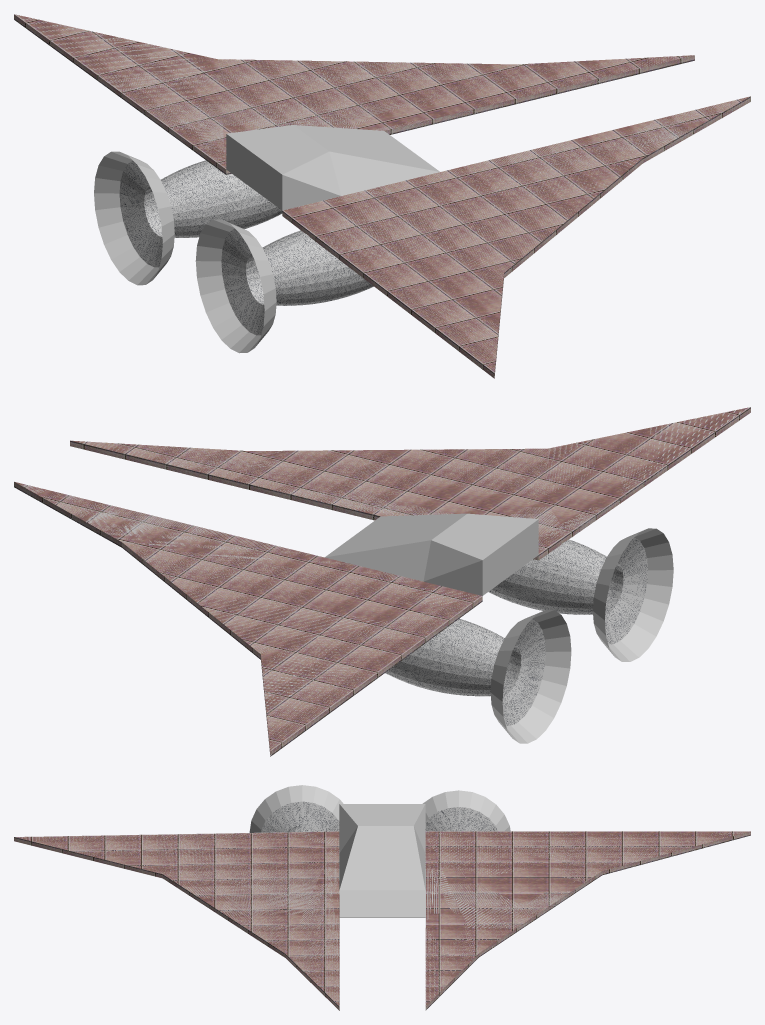
3 views of the same model, one above another, from view 1: azimuth 30°, elevation 25°; view 2: azimuth 150°, elevation 25°; view 3: azimuth 270°, elevation 25° (orthographic). The views are drawn at different scales.
Visible parts, largest first — view 1: mesh6.001_mesh6-geometry, mesh6.002_mesh6-geometry, mesh7.002_mesh7-geometry, mesh7.001_mesh7-geometry, mesh1.001_mesh1-geometry; view 2: mesh6.002_mesh6-geometry, mesh6.001_mesh6-geometry, mesh7.002_mesh7-geometry, mesh7.001_mesh7-geometry, mesh1.001_mesh1-geometry; view 3: mesh6.002_mesh6-geometry, mesh6.001_mesh6-geometry, mesh1.001_mesh1-geometry, mesh7.001_mesh7-geometry, mesh7.002_mesh7-geometry.
Part boxes in pixels (box(x1,y1,x2,y2)): mesh6.001_mesh6-geometry: box(282, 96, 750, 378); mesh6.002_mesh6-geometry: box(14, 14, 694, 174); mesh7.002_mesh7-geometry: box(94, 151, 282, 285); mesh7.001_mesh7-geometry: box(195, 219, 373, 353); mesh1.001_mesh1-geometry: box(226, 125, 439, 210); mesh6.002_mesh6-geometry: box(14, 482, 482, 756); mesh6.001_mesh6-geometry: box(70, 407, 750, 560); mesh7.002_mesh7-geometry: box(385, 610, 571, 743); mesh7.001_mesh7-geometry: box(488, 528, 673, 661); mesh1.001_mesh1-geometry: box(325, 513, 538, 595); mesh6.002_mesh6-geometry: box(425, 831, 750, 1010); mesh6.001_mesh6-geometry: box(14, 831, 339, 1010); mesh1.001_mesh1-geometry: box(339, 804, 425, 917); mesh7.001_mesh7-geometry: box(249, 785, 343, 832); mesh7.002_mesh7-geometry: box(422, 790, 510, 831).
Size of the model in its own units: 0.5425 by 0.1375 by 0.8287.
